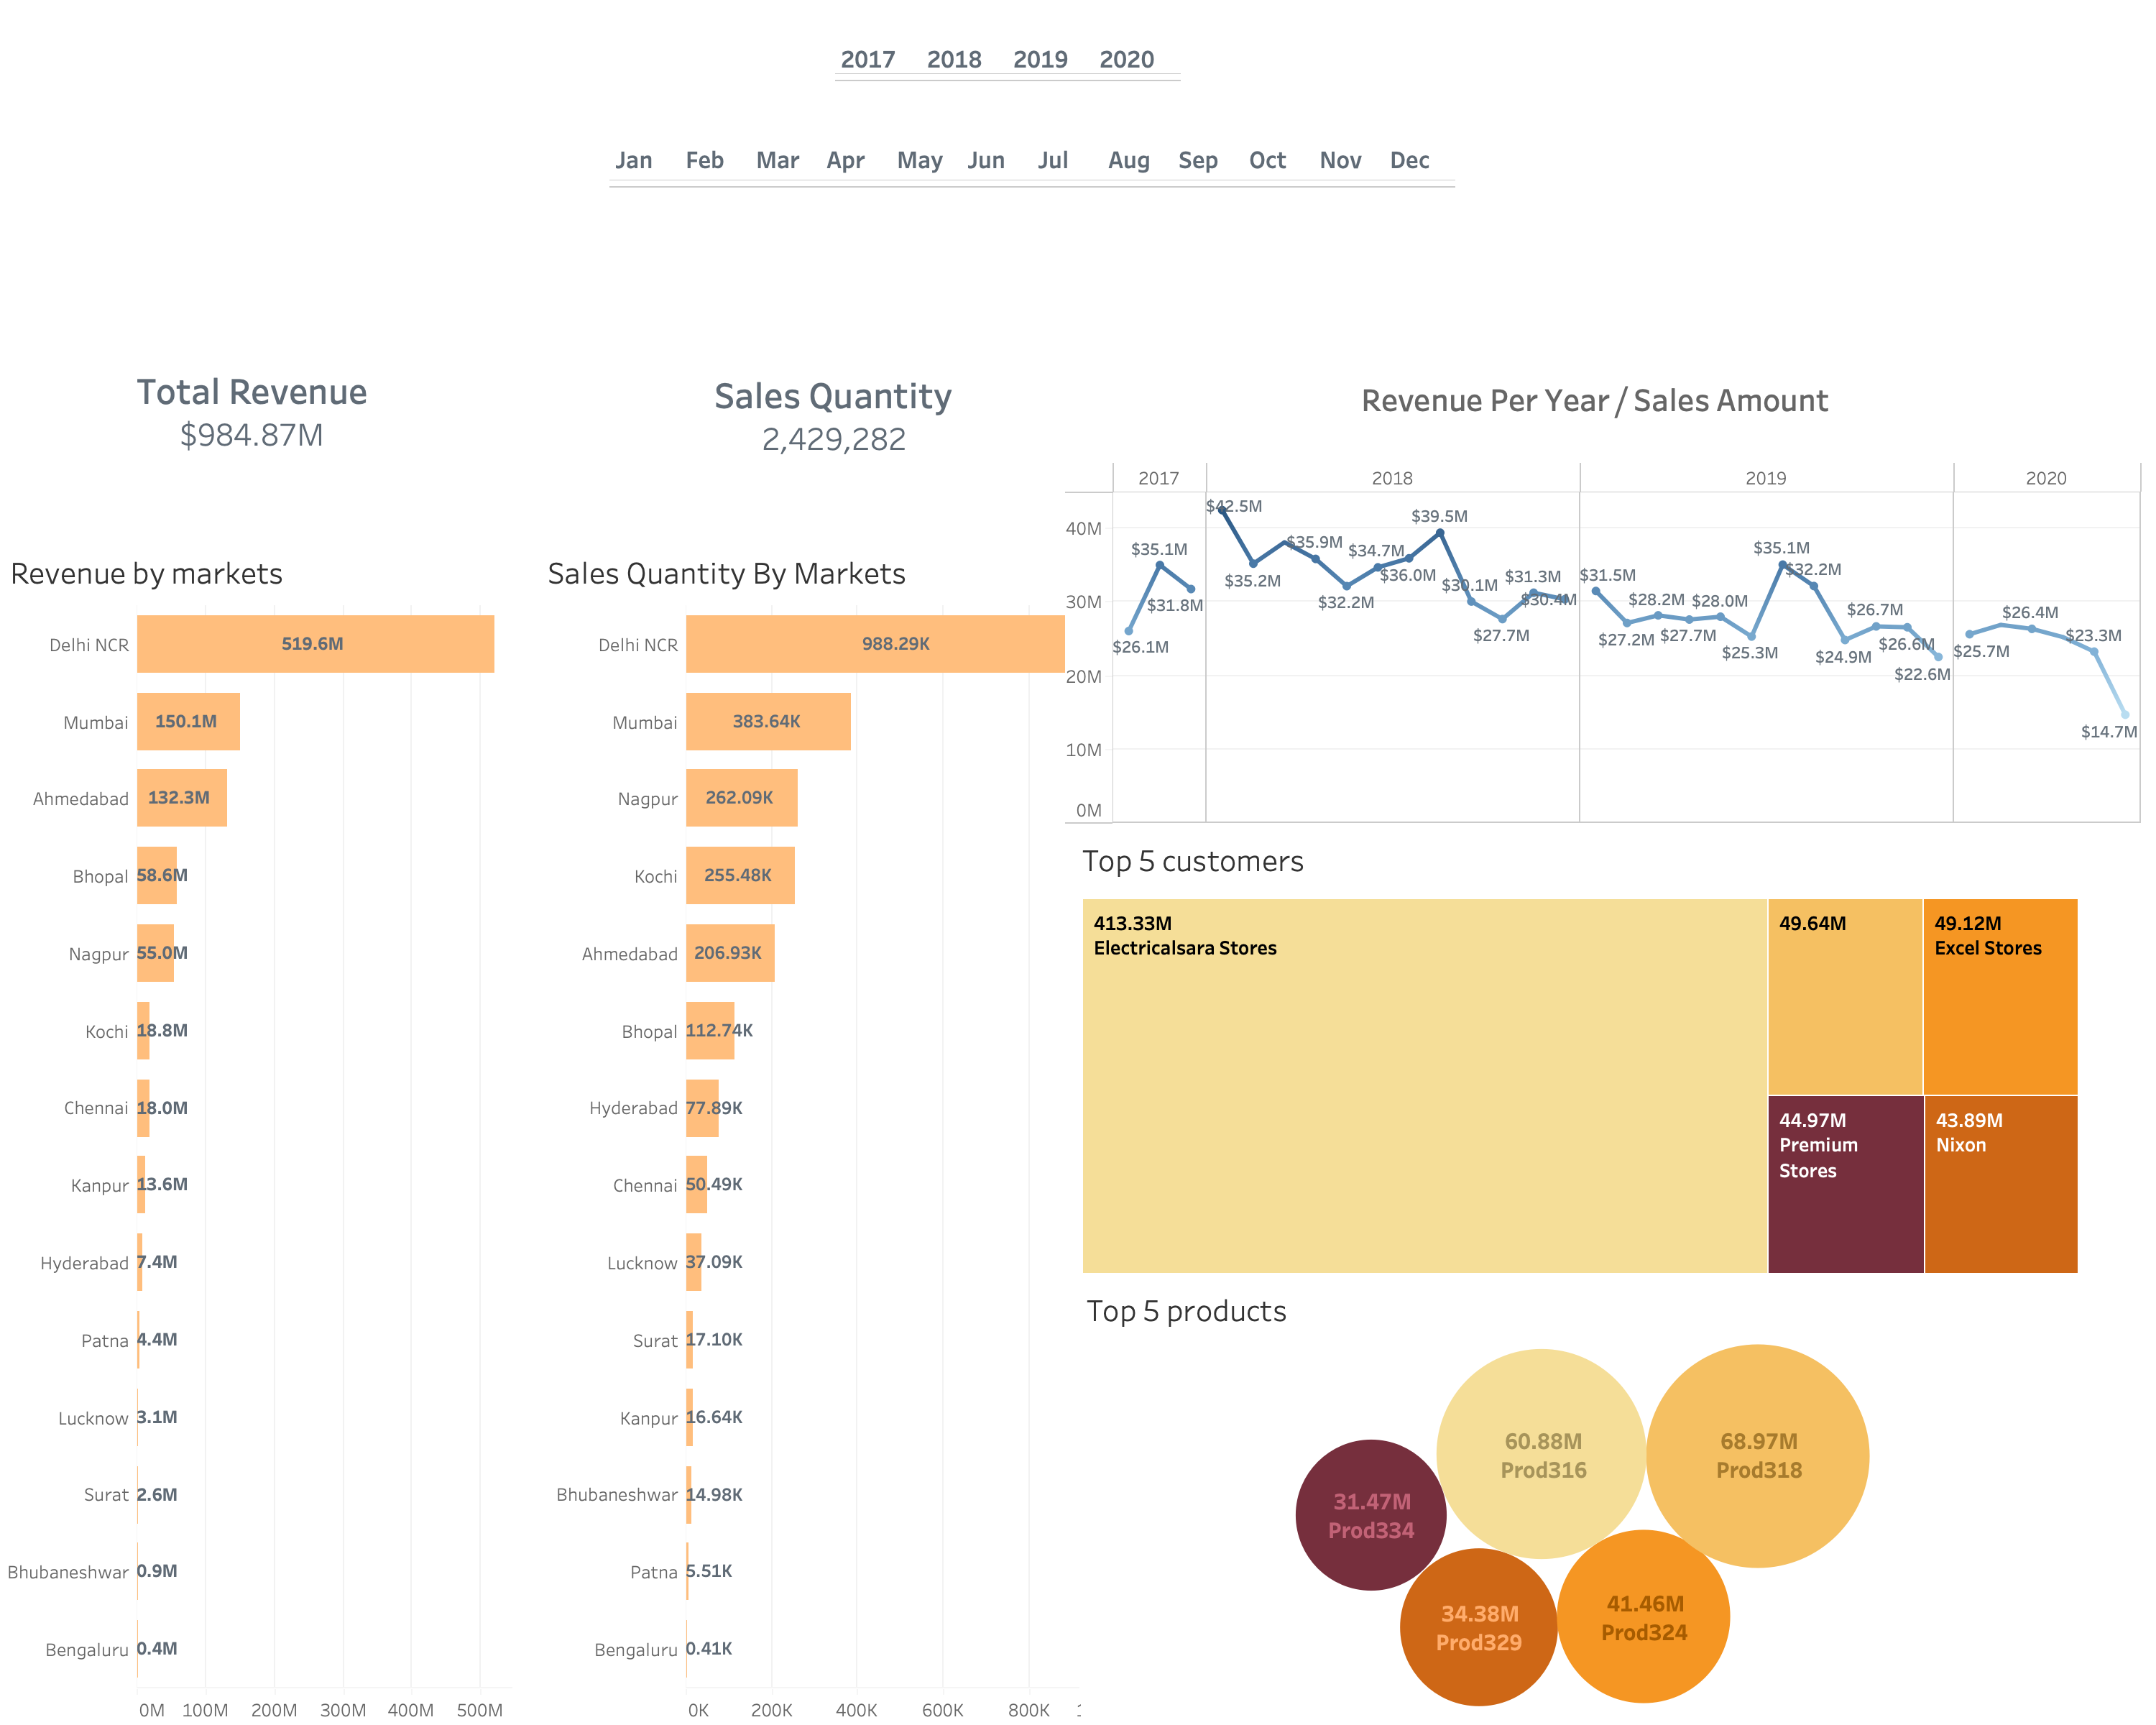

The dashboard page shown, as its layout file describes it:
{"tool":"tableau","page":{"name":"Revenue analysis","canvas":[1500,1200],"ordinal":1},"visuals":[{"type":"worksheet","title":"Year","mark":"Automatic","cols":["cy_date"],"box":[581,31,245,38]},{"type":"worksheet","title":"Month","mark":"Automatic","cols":["cy_date"],"box":[424,97,591,45]},{"type":"worksheet","title":"Revenue","mark":"Automatic","box":[86,240,181,92.4]},{"type":"worksheet","title":"Quantity ","mark":"Automatic","box":[491,258,180,92.4]},{"type":"text","box":[910,260.4,400,36]},{"type":"worksheet","title":"Revenue by Year","mark":"Automatic","rows":["Calculation_762726865454276610"],"cols":["cy_date","cy_date"],"box":[741,321.6,749,250.8]},{"type":"worksheet","title":"Top 5 customers","mark":"Square","box":[749,578,738,382]},{"type":"worksheet","title":"Top 5 products","mark":"Circle","box":[752,891,699,296]}]}

Visuals, with their boxes in screenshot pixels (x1, y1, x2, y2), scaled from the page's 1500x1200 canvas onto the 2156x1725 screenshot:
"Year" worksheet: {"x1": 835, "y1": 45, "x2": 1187, "y2": 99}
"Month" worksheet: {"x1": 609, "y1": 139, "x2": 1459, "y2": 204}
"Revenue" worksheet: {"x1": 124, "y1": 345, "x2": 384, "y2": 478}
"Quantity " worksheet: {"x1": 706, "y1": 371, "x2": 964, "y2": 504}
text: {"x1": 1308, "y1": 374, "x2": 1883, "y2": 426}
"Revenue by Year" worksheet: {"x1": 1065, "y1": 462, "x2": 2142, "y2": 823}
"Top 5 customers" worksheet (Square marks): {"x1": 1077, "y1": 831, "x2": 2137, "y2": 1380}
"Top 5 products" worksheet (Circle marks): {"x1": 1081, "y1": 1281, "x2": 2086, "y2": 1706}
